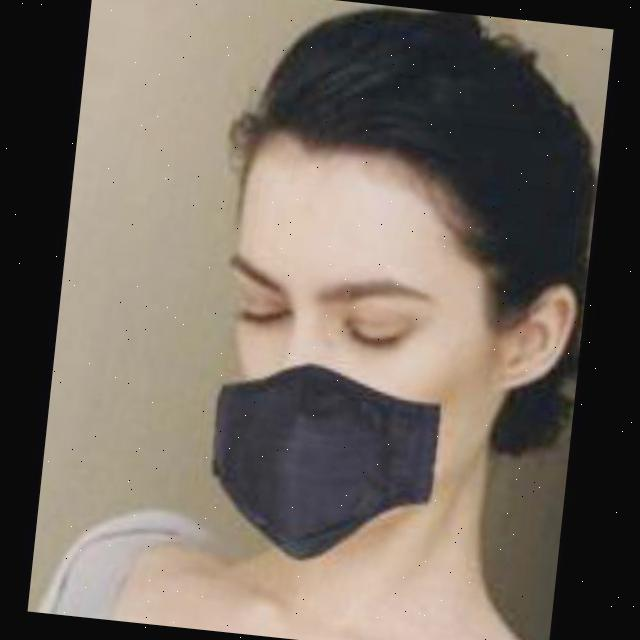suspicion: (162, 60, 526, 557)
